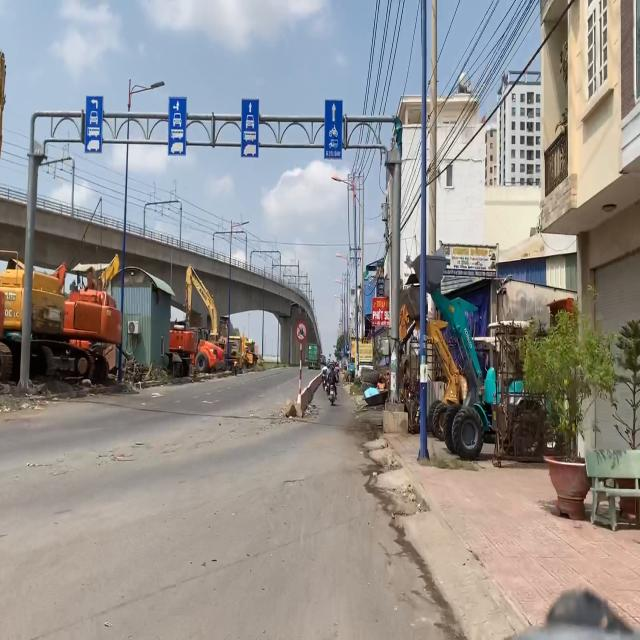Cam con lai: (295, 320, 308, 343)
